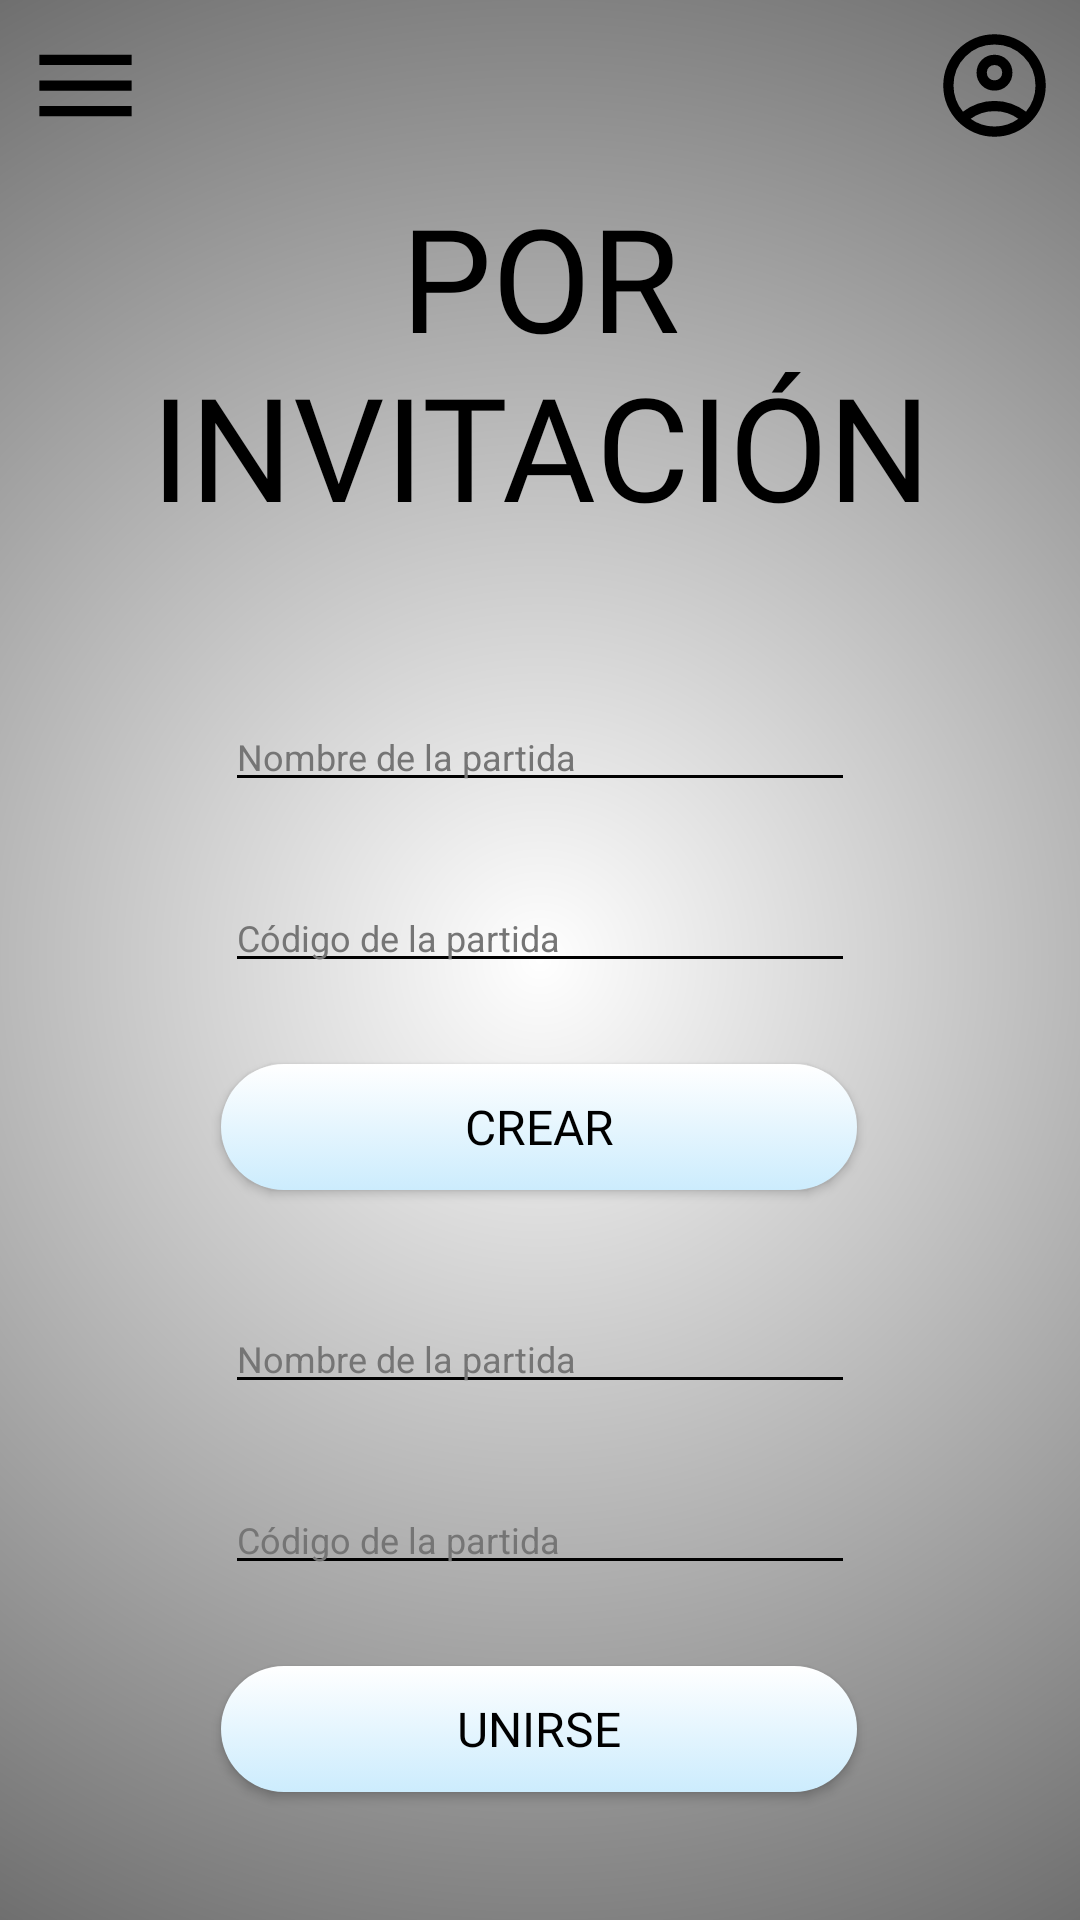

Icon bounding boxes for this 1080px x 1920px phone screenshot, format rect(x1, y1, x2, y2):
account: rect(943, 34, 1046, 137)
menu: rect(39, 54, 132, 117)
